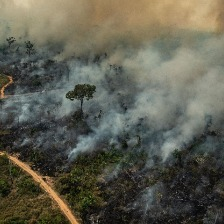incendio: (3, 1, 216, 174)
